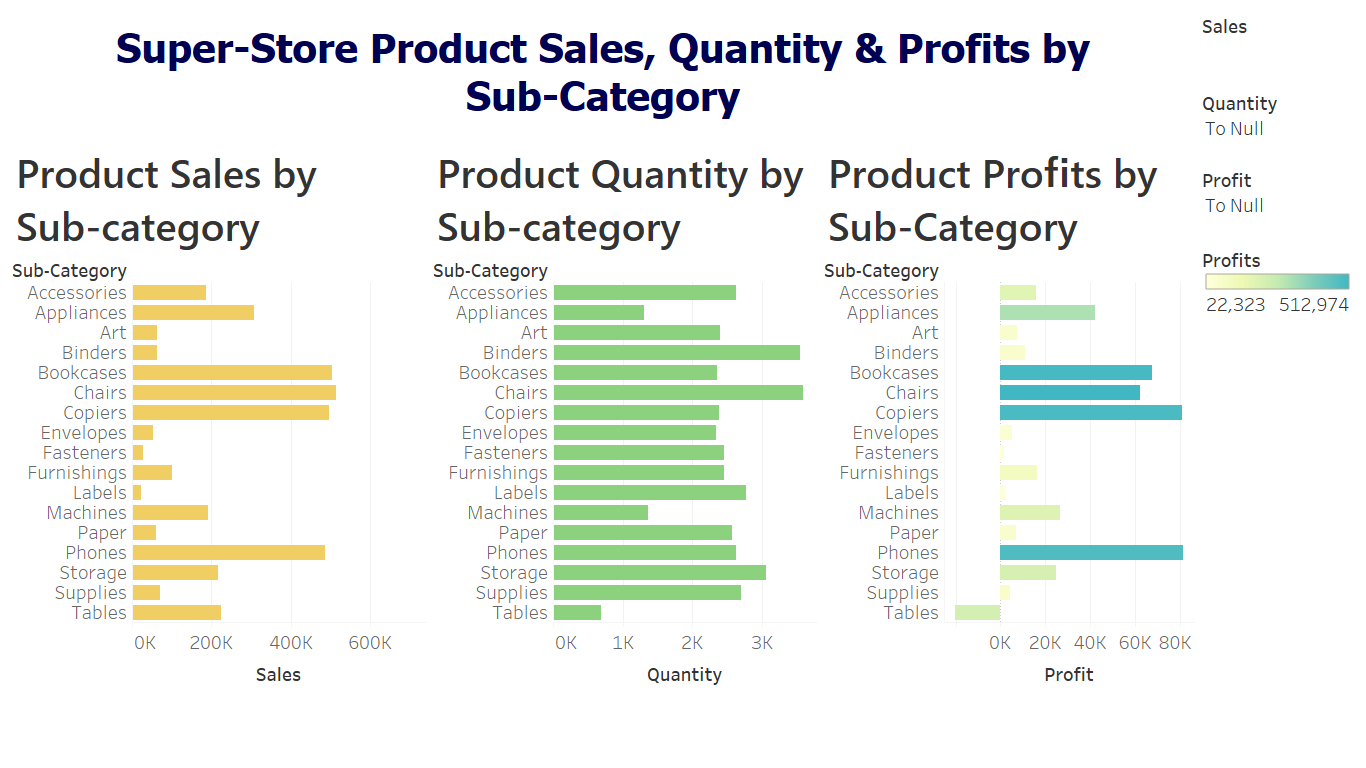

The page's visual inventory and layout, read from the dashboard file:
{"tool":"tableau","page":{"name":"Dashboard 2","canvas":[1366,768],"ordinal":0},"visuals":[{"type":"title","box":[8,8,1190,127]},{"type":"filter","title":"Product_sales","param":"[federated.1e4h40q1rt7zu312f01az0g4erg2].[sum:Sales:qk]","box":[1198,8,160,77]},{"type":"filter","title":"Product_Quantity","param":"[federated.1e4h40q1rt7zu312f01az0g4erg2].[sum:Quantity:qk]","box":[1198,85,160,77]},{"type":"worksheet","title":"Product_sales","mark":"Automatic","rows":["Sub-Category"],"cols":["Sales"],"box":[8,135,421,625]},{"type":"worksheet","title":"Product_Quantity","mark":"Automatic","rows":["Sub-Category"],"cols":["Quantity"],"box":[429,135,390.8,625]},{"type":"worksheet","title":"Product_Profits","mark":"Automatic","rows":["Sub-Category"],"cols":["Profit"],"box":[819.8,135,378.1,625]},{"type":"filter","title":"Product_Profits","param":"[federated.1e4h40q1rt7zu312f01az0g4erg2].[sum:Profit:qk]","box":[1198,162,160,77]},{"type":"legend","title":"Product_Profits","param":"[federated.1e4h40q1rt7zu312f01az0g4erg2].[sum:Sales:qk]","box":[1198,239,160,81]}]}

Visuals, with their boxes in screenshot pixels (x1, y1, x2, y2), scaled from the page's 1366x768 canvas onto the 1366x768 screenshot:
title: 8 8 1198 135
"Product_sales" filter: 1198 8 1358 85
"Product_Quantity" filter: 1198 85 1358 162
"Product_sales" worksheet: 8 135 429 760
"Product_Quantity" worksheet: 429 135 820 760
"Product_Profits" worksheet: 820 135 1198 760
"Product_Profits" filter: 1198 162 1358 239
"Product_Profits" legend: 1198 239 1358 320
